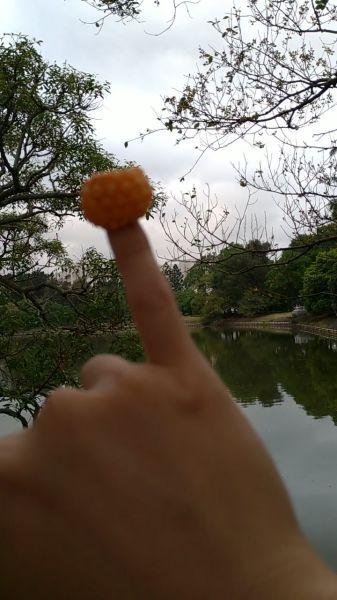eggs: (74, 163, 159, 231)
